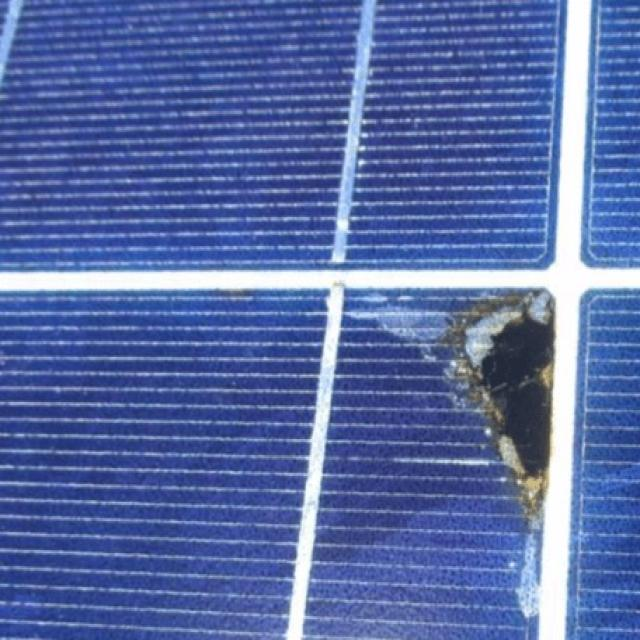Electrical-damage: (438, 290, 552, 616)
